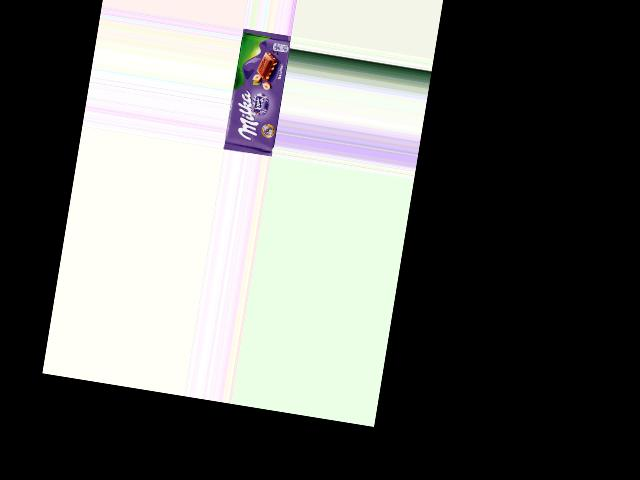chocolate: (223, 27, 292, 156)
